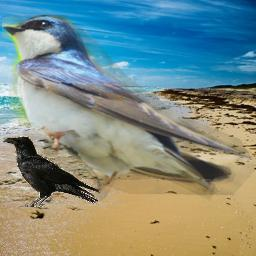Crow: (3, 136, 100, 207)
Swallow: (2, 15, 255, 204)
